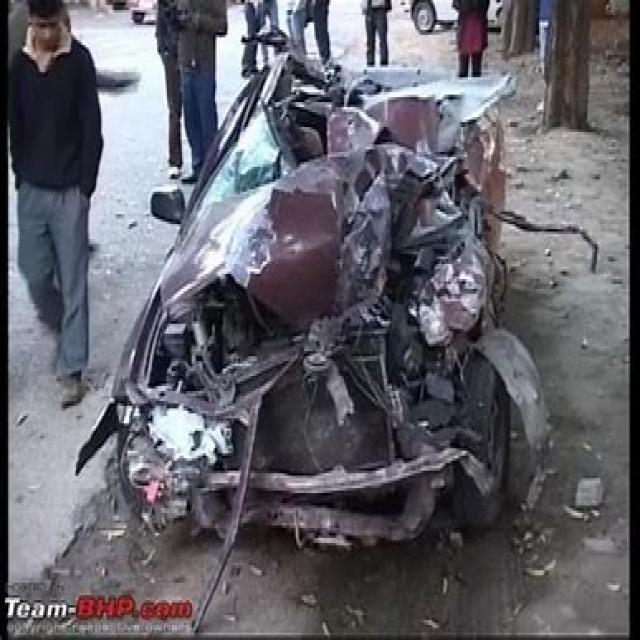Accident: (115, 31, 548, 527)
